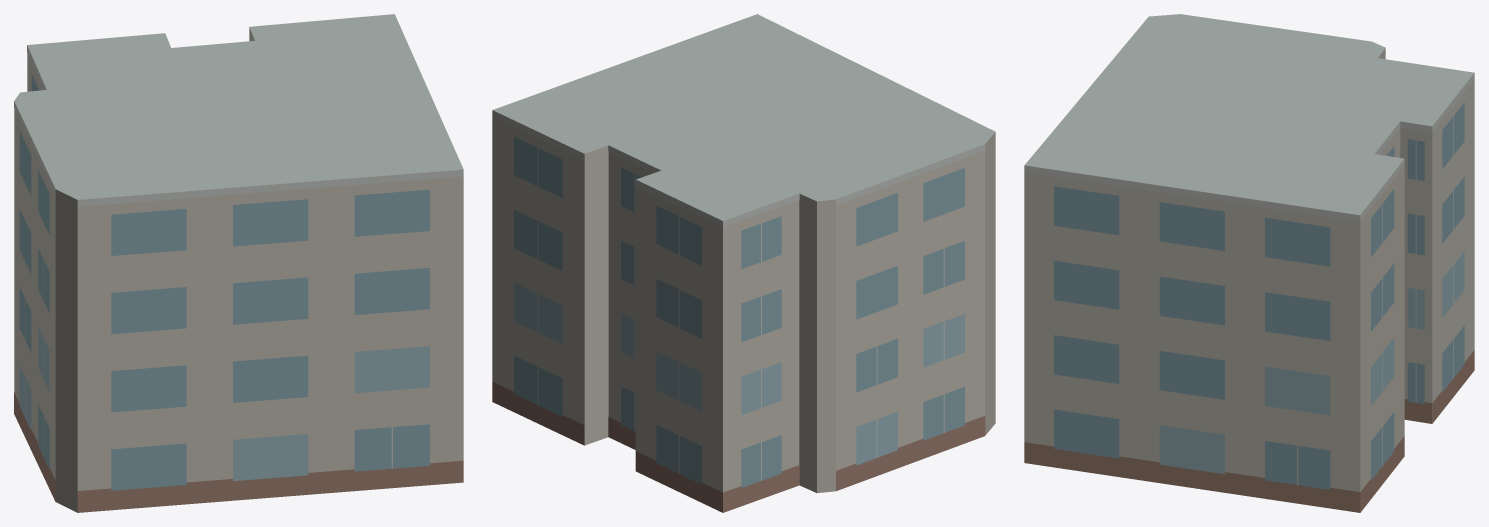
File: survey-upis-32974099.glb
The picture shows the model from 3 angles, left to right: view 1: azimuth 30°, elevation 25°; view 2: azimuth 150°, elevation 25°; view 3: azimuth 270°, elevation 25°; orthographic projection. The views are drawn at different scales.
Parts seen in each view (by area): view 1: survey-upis-32974099.tmp; view 2: survey-upis-32974099.tmp; view 3: survey-upis-32974099.tmp.
Boxes of the visible parts, x1=… form: survey-upis-32974099.tmp: x1=14, y1=14, x2=463, y2=512; survey-upis-32974099.tmp: x1=492, y1=14, x2=995, y2=512; survey-upis-32974099.tmp: x1=1024, y1=14, x2=1474, y2=512.
Size of the model in its own units: 16.11 by 11.1 by 15.23.
